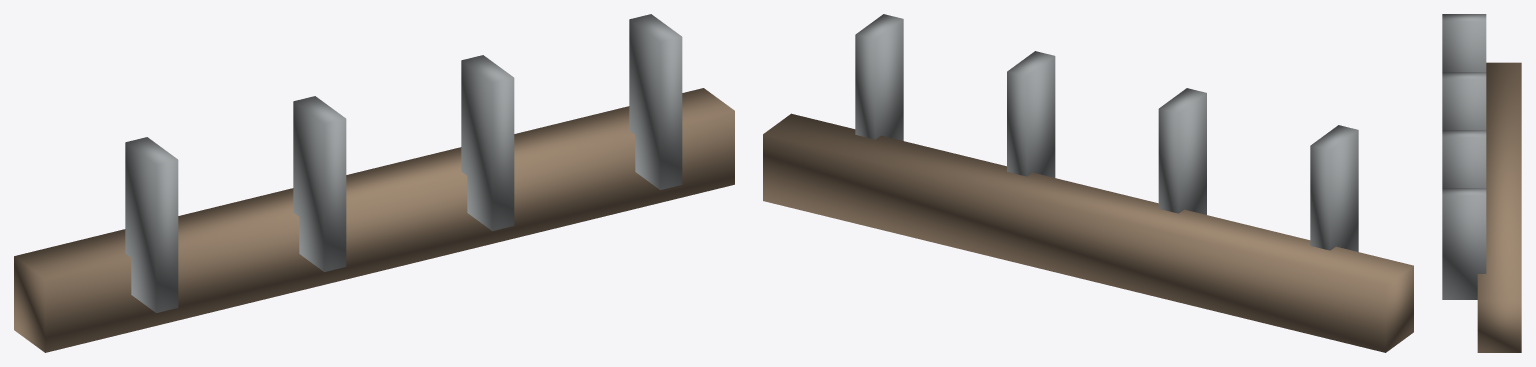
The model's file is door_coat_hook__deep.glb.
3 renders of one model, left to right at view 1: azimuth 30°, elevation 25°; view 2: azimuth 150°, elevation 25°; view 3: azimuth 270°, elevation 25°, orthographic. The views are drawn at different scales.
Visible parts, largest first — view 1: world; view 2: world; view 3: world.
Boxes of the visible parts, box(x1,y1,x2,y2) form: world: box(14, 14, 734, 352); world: box(763, 14, 1413, 352); world: box(1442, 14, 1521, 352).
Bounding box in the file's own units: 0.78 × 0.2 × 0.1098.
